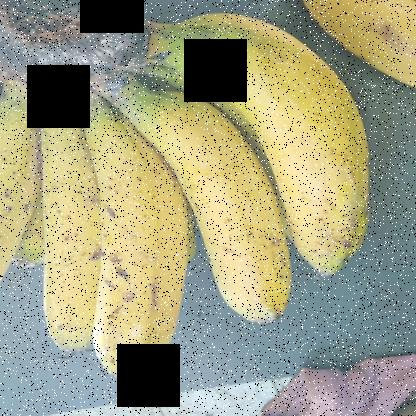ripe: (156, 8, 370, 275), (94, 59, 282, 325), (78, 96, 185, 388), (13, 90, 112, 364)
